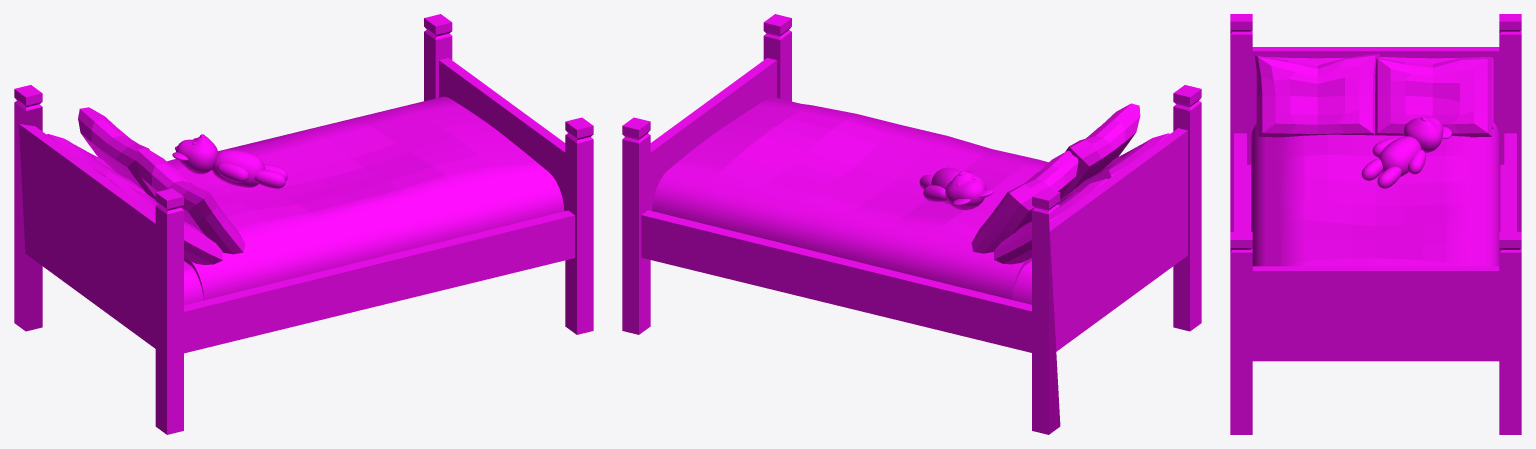
File: Bed.glb
3 views of the same model, side by side, from view 1: azimuth 30°, elevation 25°; view 2: azimuth 150°, elevation 25°; view 3: azimuth 270°, elevation 25° (orthographic). The views are drawn at different scales.
Visible parts, largest first — view 1: BedroomProps.001; view 2: BedroomProps.001; view 3: BedroomProps.001.
Part boxes in pixels (x1=…): BedroomProps.001: x1=14, y1=14, x2=593, y2=434; BedroomProps.001: x1=622, y1=14, x2=1201, y2=434; BedroomProps.001: x1=1230, y1=14, x2=1521, y2=434.
Size of the model in its own units: 8.7 by 4.56 by 5.4.
